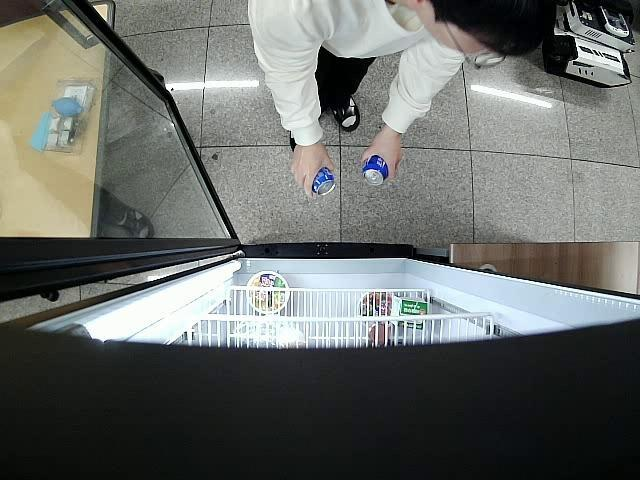13_pocariSweat: (362, 156, 390, 187), (312, 166, 335, 196)
